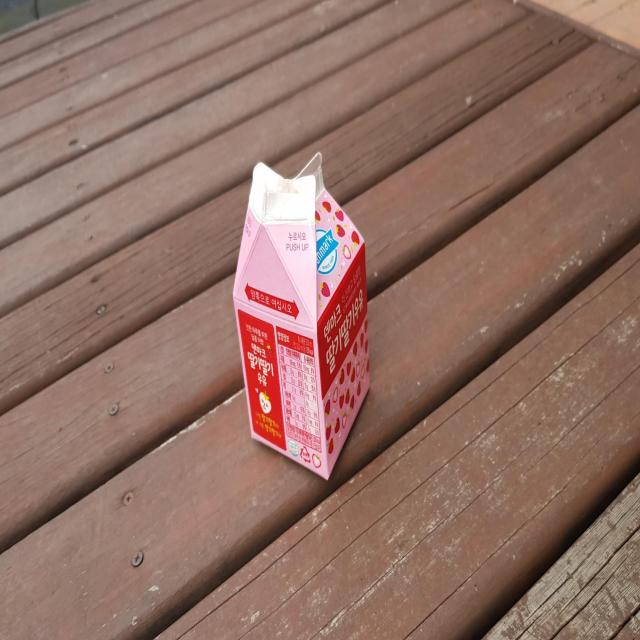paperpack: (233, 152, 369, 479)
